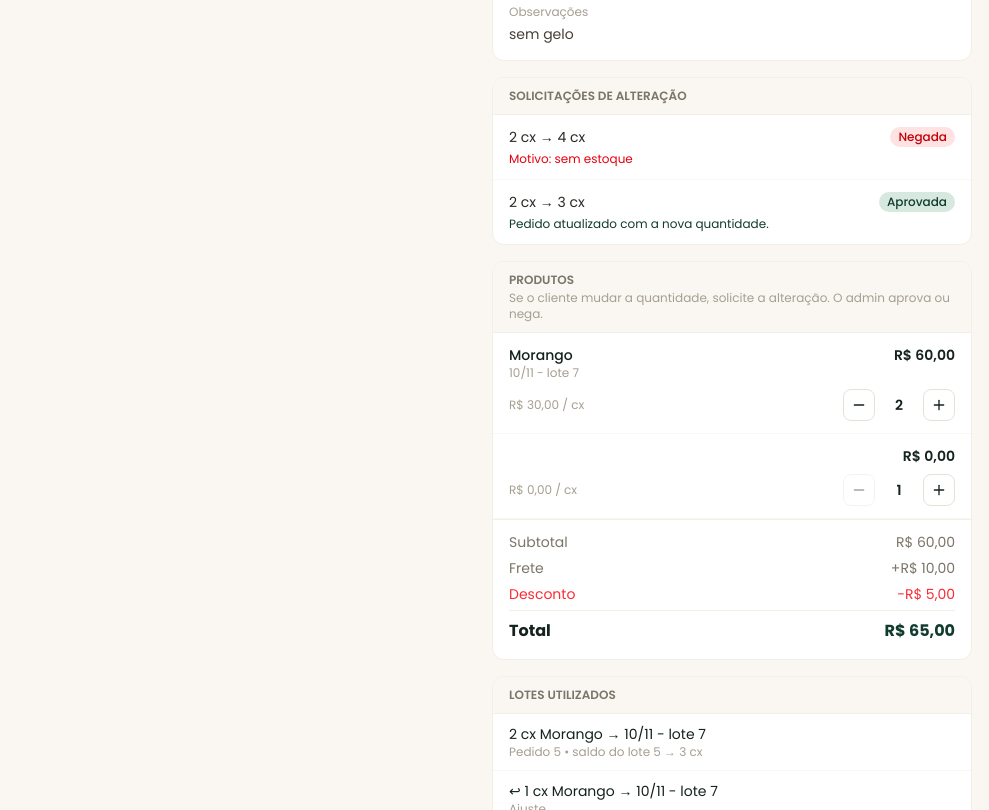
detalhe do pedido › erro ao solicitar e solicitações anteriores
This screenshot has width=989, height=810.
(page scrolled)
Check: the text "Motivo: sem estoque" is shown, box [509,150,633,167]
Check: the text "Pedido atualizado com a nova quantidade." is shown, box [509,215,769,232]
Click the 2nd button.
click(939, 405)  # box [923,389,955,421]
(page scrolled)
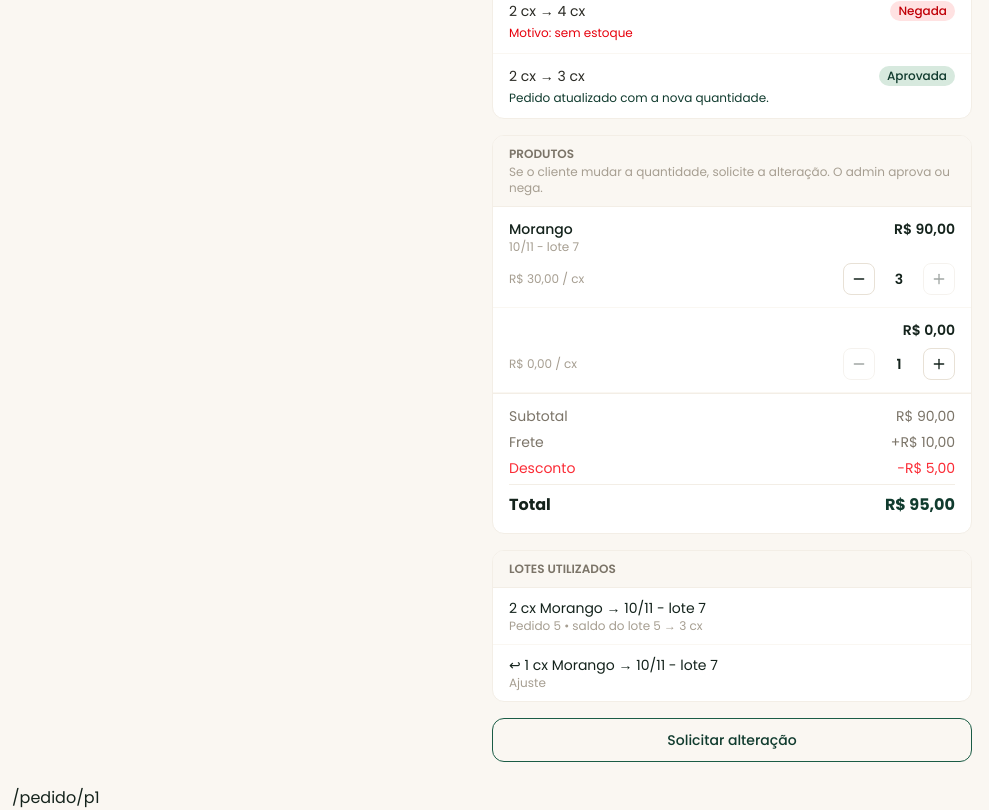
Click the button "Solicitar alteração".
click(732, 740)  # box [492,718,972,762]
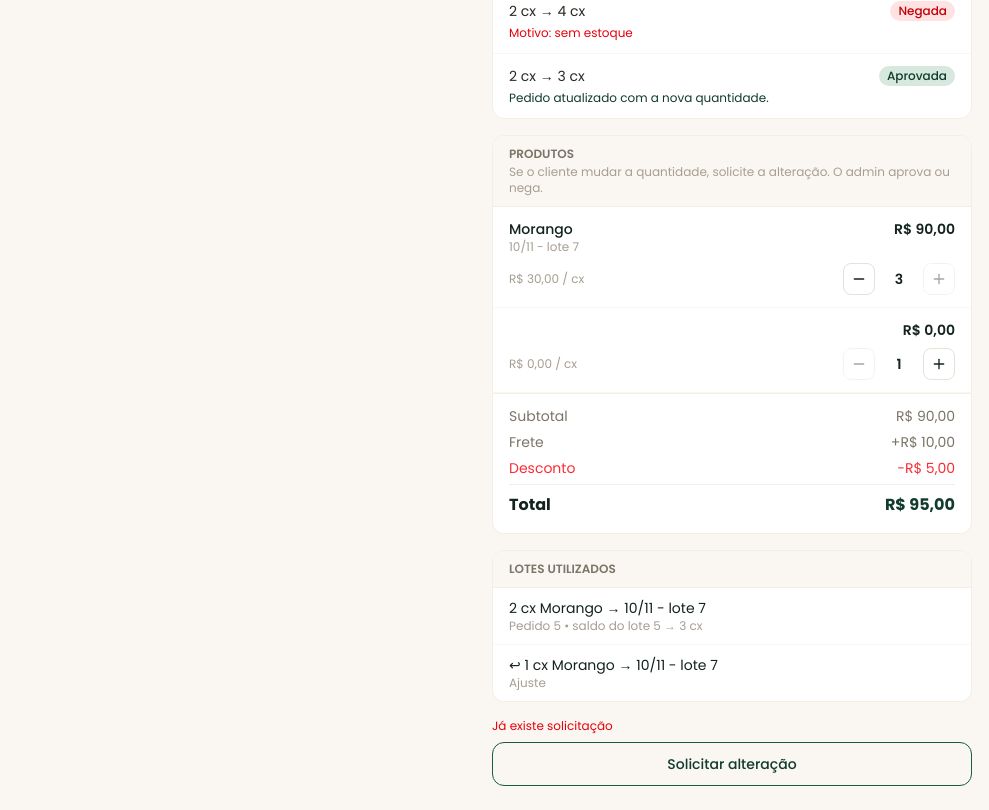
Check: the text "Já existe solicitação" is shown, box [492,717,613,734]
Click the button "Solicitar alteração".
click(732, 764)  # box [492,742,972,786]
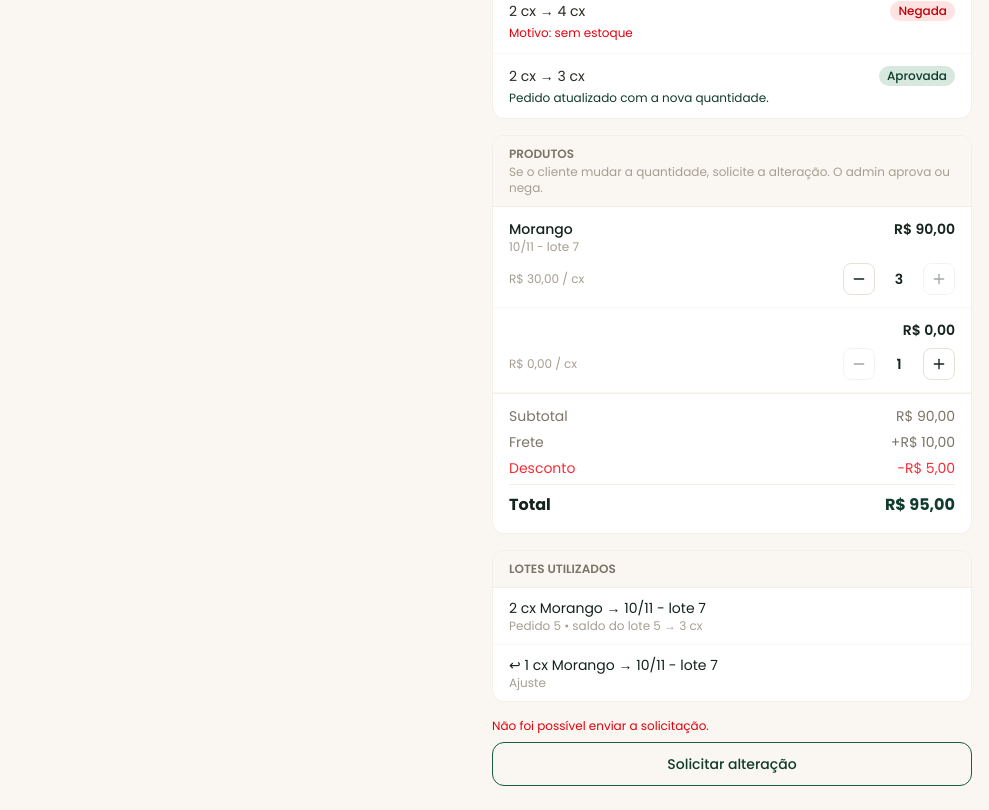
Check: the text "Não foi possível enviar a solicitação." is shown, box [492,717,709,734]
